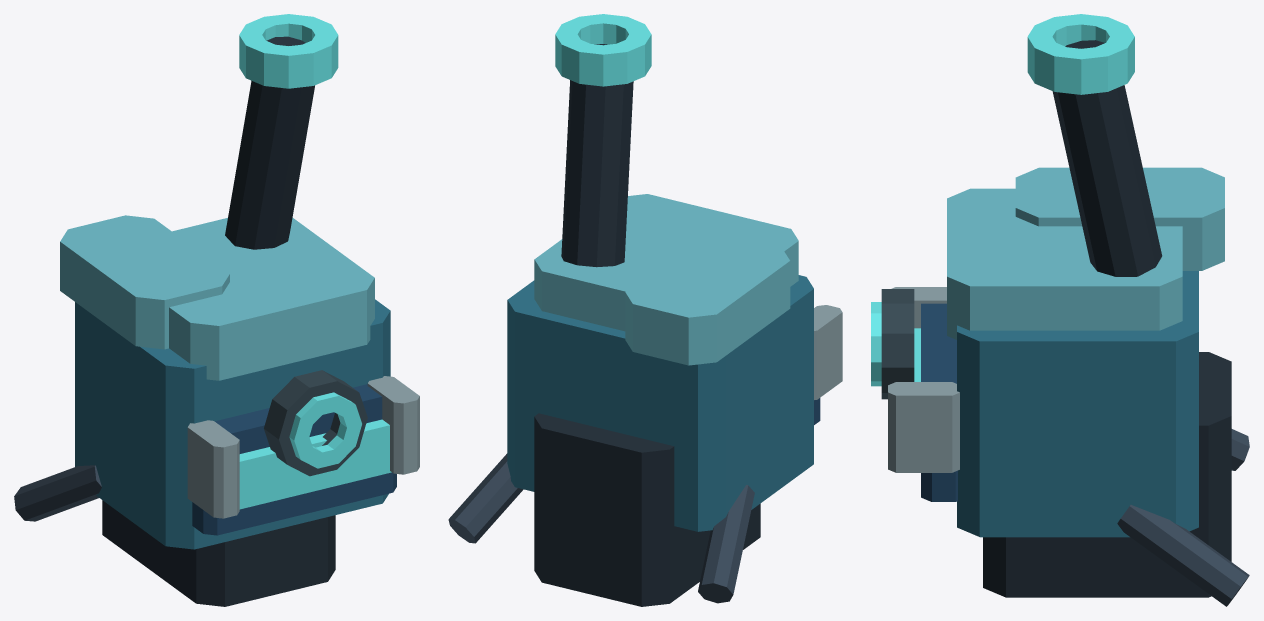
File: enemy_marksman_head.obj
3 views of the same model, side by side, from view 1: azimuth 30°, elevation 25°; view 2: azimuth 150°, elevation 25°; view 3: azimuth 270°, elevation 25° (orthographic). The views are drawn at different scales.
Size of the model in its own units: 0.5577 by 0.935 by 0.5788.
